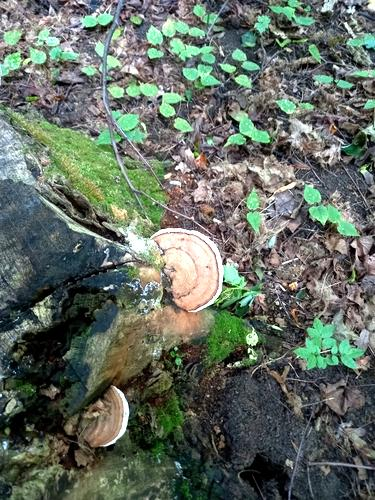Ganoderma - Fruit Body: (149, 224, 227, 317), (61, 381, 135, 439)
